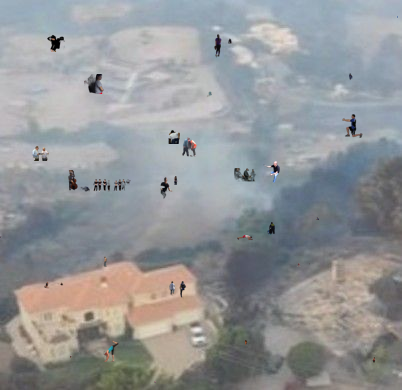Human: (342, 114, 363, 138), (93, 179, 131, 192), (68, 170, 90, 192), (84, 74, 108, 94), (214, 34, 232, 58), (263, 161, 280, 183), (103, 340, 119, 362), (234, 168, 256, 184), (47, 33, 65, 52), (182, 137, 197, 157), (160, 177, 173, 200), (169, 281, 186, 298), (32, 146, 49, 161), (198, 86, 212, 99), (168, 130, 180, 144), (44, 282, 63, 289), (267, 222, 275, 235), (237, 235, 253, 240), (102, 256, 107, 267), (297, 263, 310, 267), (174, 176, 178, 185), (349, 73, 353, 80), (372, 357, 375, 363), (245, 340, 247, 345), (316, 217, 319, 220), (70, 355, 72, 358), (154, 381, 156, 383), (0, 236, 2, 238), (397, 16, 398, 19)
